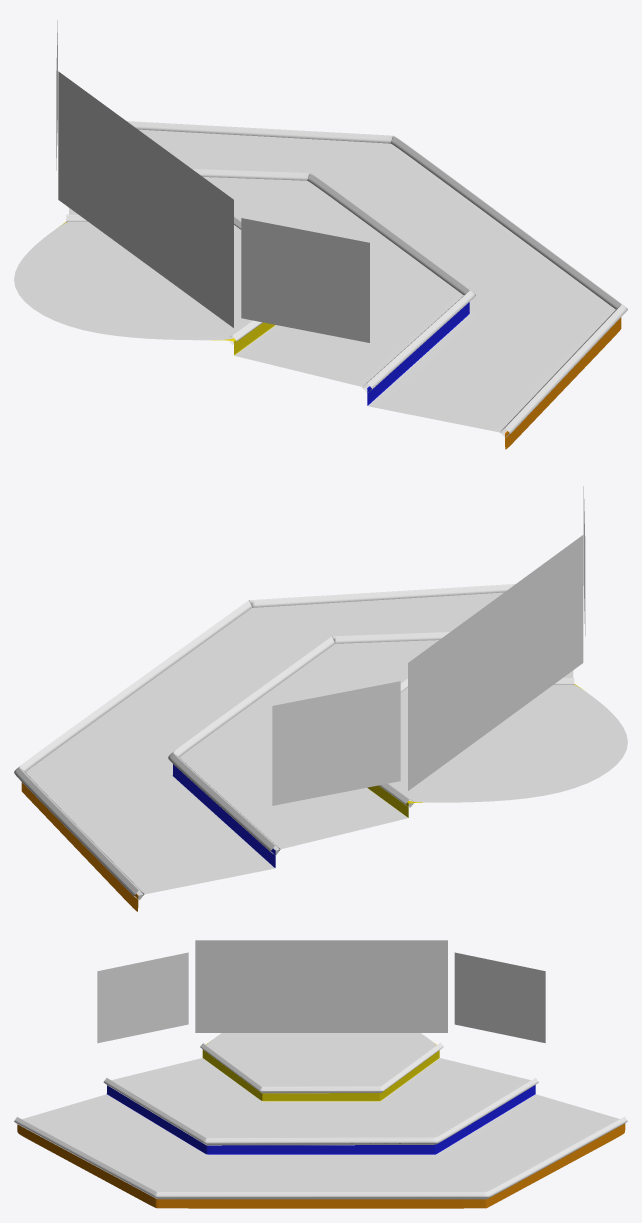
The model's file is HexStage.fbx.
3 renders of one model, top to bottom at view 1: azimuth 30°, elevation 25°; view 2: azimuth 150°, elevation 25°; view 3: azimuth 270°, elevation 25°, orthographic. The views are drawn at different scales.
Visible parts, largest first — view 1: Stage.002, Main Screen.002, Side Screen.002, LightBarBottom.001, LightBarMid.001; view 2: Stage.002, Main Screen.002, Side Screen.002, LightBarBottom.001, LightBarMid.001; view 3: Stage.002, Main Screen.002, Side Screen.002, LightBarBottom.001, LightBarMid.001, LightBarTop.001.
Boxes of the visible parts, x1,y1,x2,y2 form: Stage.002: [14, 129, 621, 449]; Main Screen.002: [58, 71, 233, 327]; Side Screen.002: [56, 20, 369, 342]; LightBarBottom.001: [127, 121, 627, 437]; LightBarMid.001: [192, 169, 475, 392]; Stage.002: [21, 592, 627, 911]; Main Screen.002: [408, 535, 583, 790]; Side Screen.002: [272, 486, 585, 805]; LightBarBottom.001: [14, 584, 515, 900]; LightBarMid.001: [168, 632, 449, 855]; Stage.002: [17, 1033, 625, 1208]; Main Screen.002: [195, 940, 447, 1032]; Side Screen.002: [97, 952, 545, 1043]; LightBarBottom.001: [14, 1116, 627, 1199]; LightBarMid.001: [103, 1077, 538, 1145]; LightBarTop.001: [200, 1042, 443, 1093].
Size of the model in its own units: 1352 by 528 by 2077.
